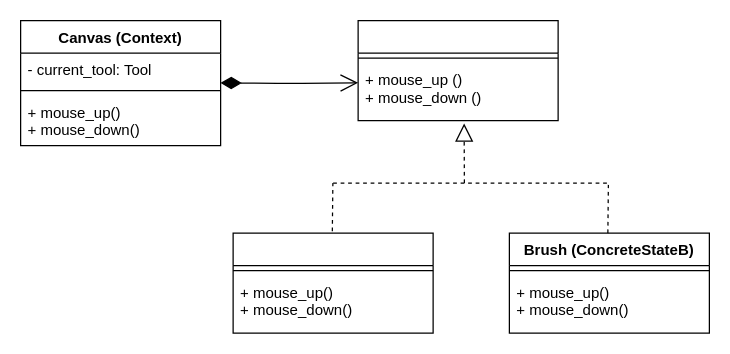
The diagram is 730 pixels wide and 354 high, and some of its shapes have lost their labels. The shapes that lost their labels are listed below. From the top down, each one's box as (x1, y1, x2, y2) in pixels, then its label:
(357, 19, 558, 121): Tool (State)
(232, 232, 433, 333): Selection (ConcreteStateA)
